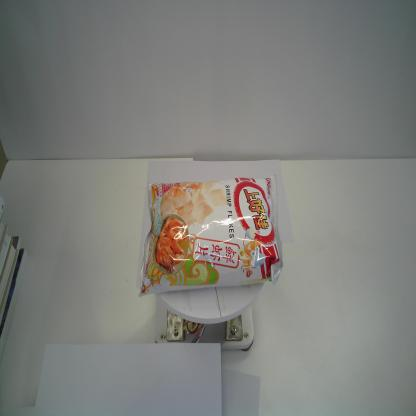Puffed Food: (133, 168, 284, 302)
